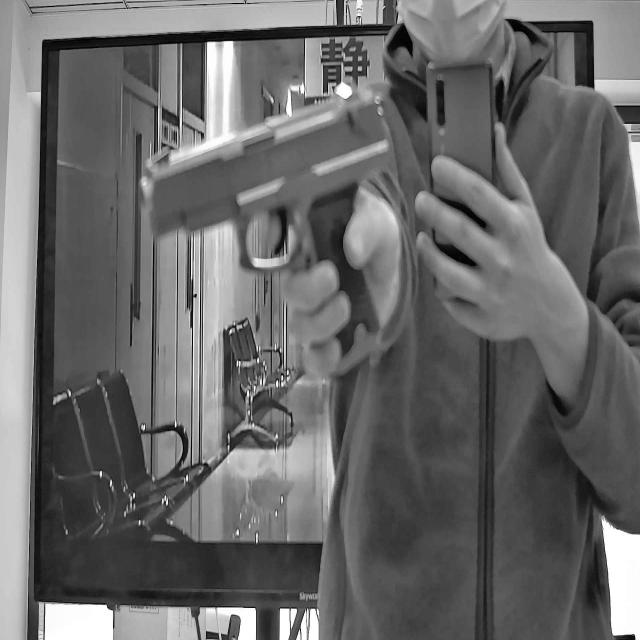Hand-Gun: (78, 48, 447, 448)
